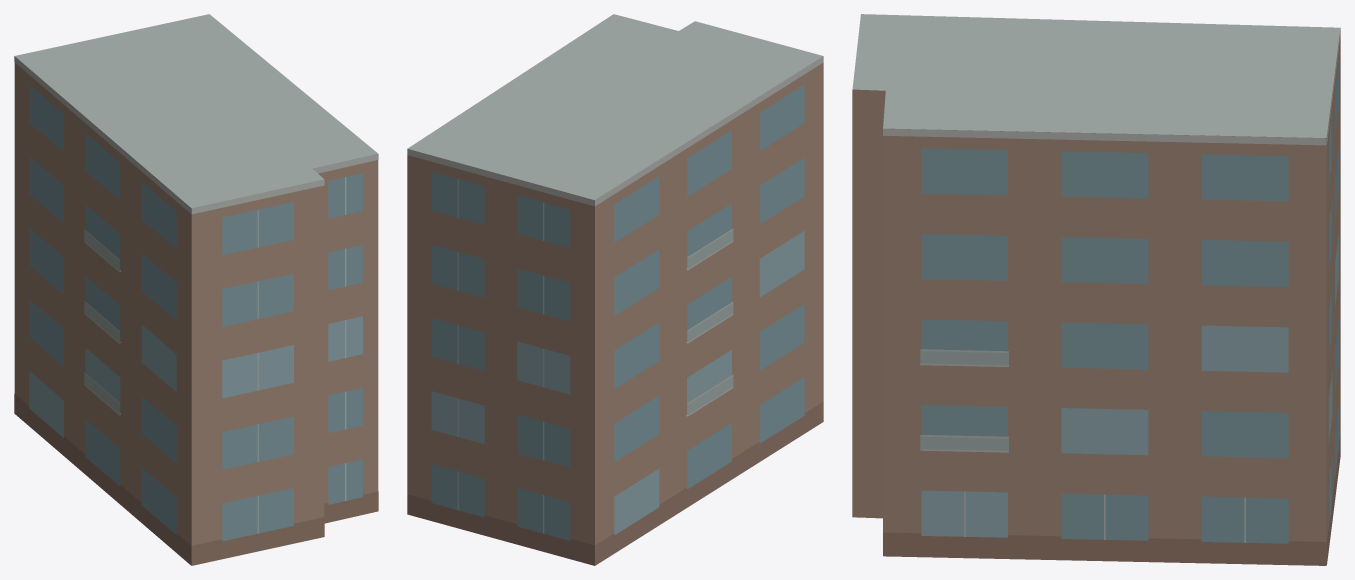
File: survey-upis-32765817.glb
3 renders of one model, left to right at view 1: azimuth 30°, elevation 25°; view 2: azimuth 150°, elevation 25°; view 3: azimuth 270°, elevation 25°, orthographic. The views are drawn at different scales.
Visible parts, largest first — view 1: survey-upis-32765817.tmp; view 2: survey-upis-32765817.tmp; view 3: survey-upis-32765817.tmp.
Boxes of the visible parts, box(x1,y1,x2,y2) form: survey-upis-32765817.tmp: box(14, 14, 378, 565); survey-upis-32765817.tmp: box(407, 14, 823, 565); survey-upis-32765817.tmp: box(852, 14, 1340, 565).
Size of the model in its own units: 8.9 by 14.3 by 14.8.
